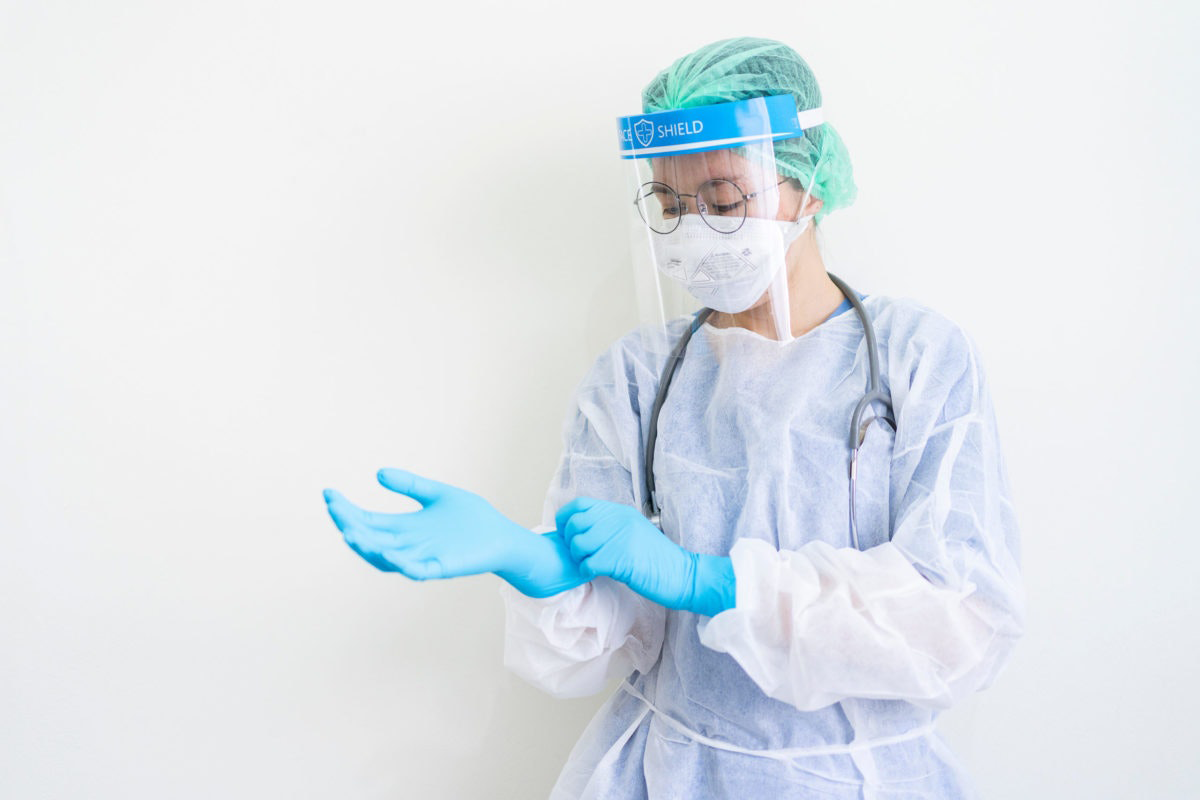Coverall: (561, 305, 1024, 800)
Face_Shield: (614, 95, 822, 361)
Gloves: (322, 467, 558, 598), (555, 497, 739, 617)
with_mask: (651, 213, 799, 316)
